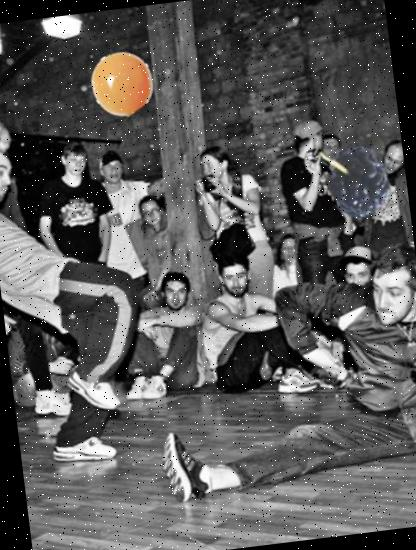Mulberry: (311, 132, 411, 232)
Physalis: (86, 48, 158, 118)
